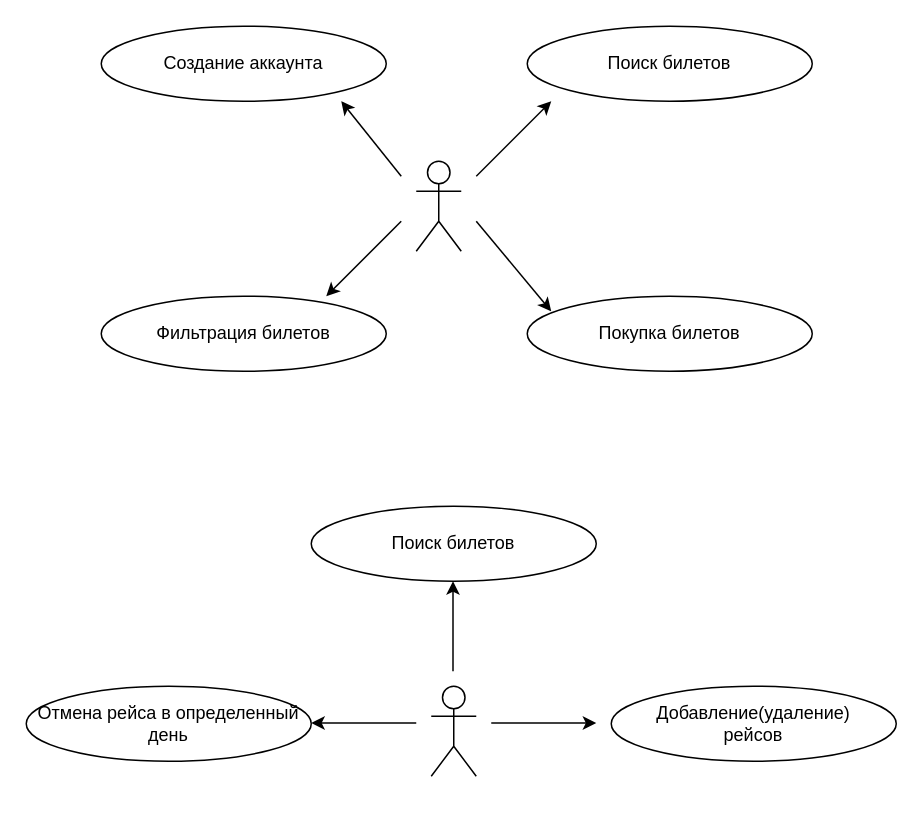
Some shapes in this 923 by 834 pixel diagram are drawn without their labels. The shapes that lost their labels are listed below. From the top down, each one's box as (x1, y1, x2, y2) in pixels, then its label:
(415, 160, 461, 251): Пользователь
(430, 685, 476, 776): Администратор
